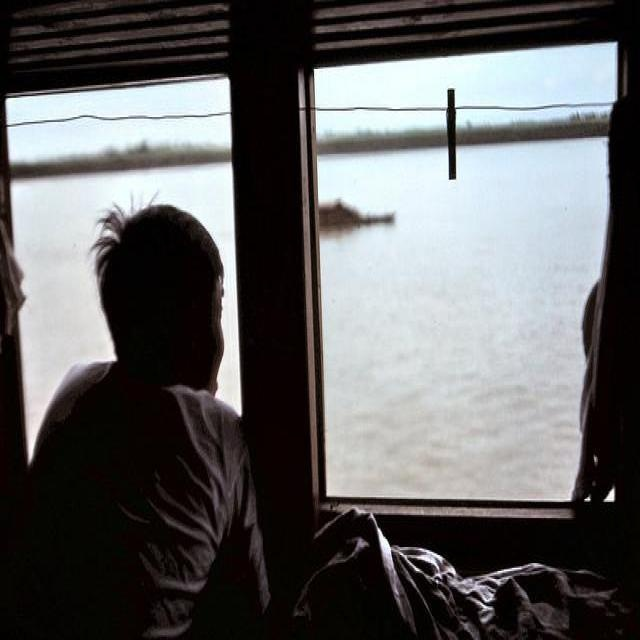obstacle: (29, 200, 272, 630)
